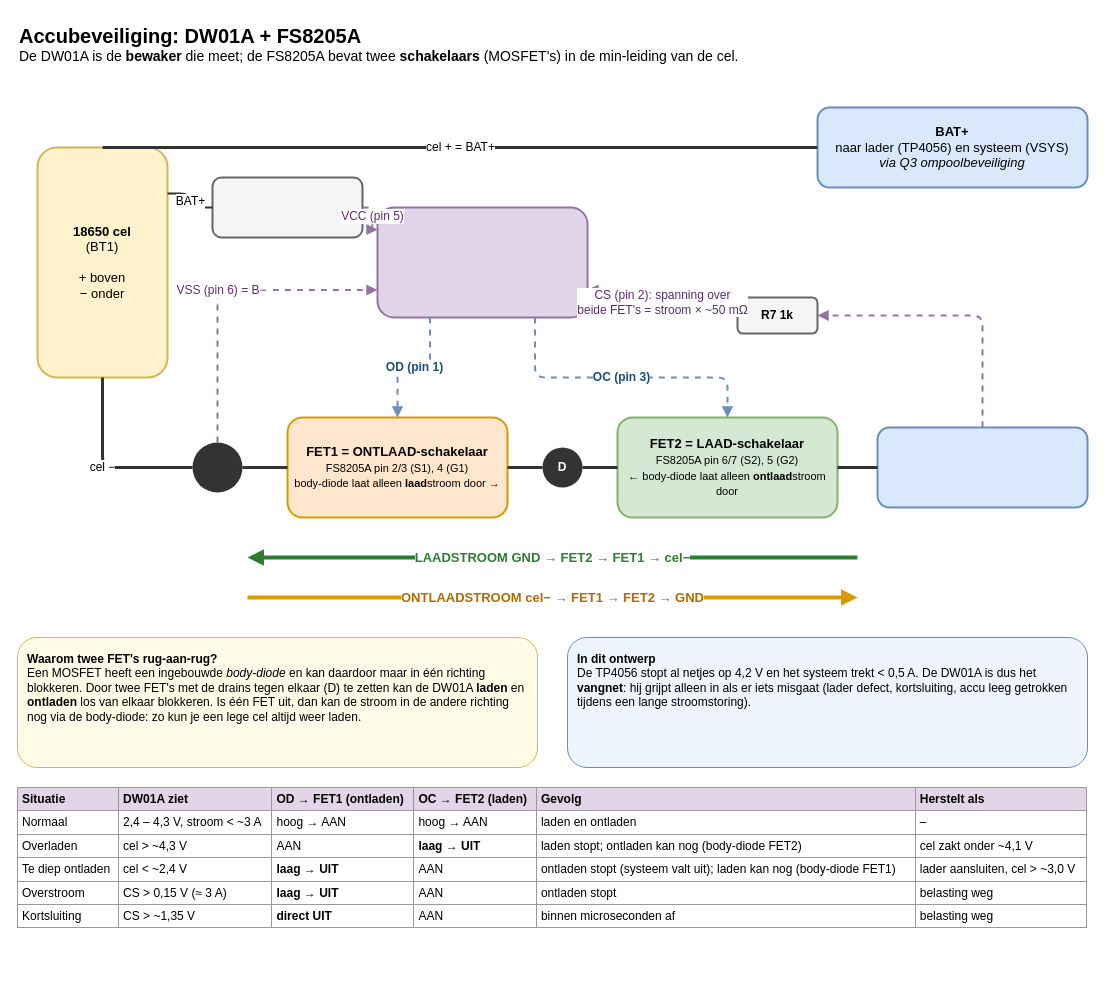
Some shapes in this 1115 by 994 pixel diagram are drawn without their labels. The shapes that lost their labels are listed below. From the top down, each one's centre as x and y in pixels, then its label:
point 287,207: R6 100Ω + C4 100nF filter: schone voeding voor de DW01A
point 482,262: DW01A de bewaker meet celspanning (VCC−VSS) en stroom (via CS)
point 217,467: B−
point 982,467: P− = GND systeemmassa (lader en ESP32)
